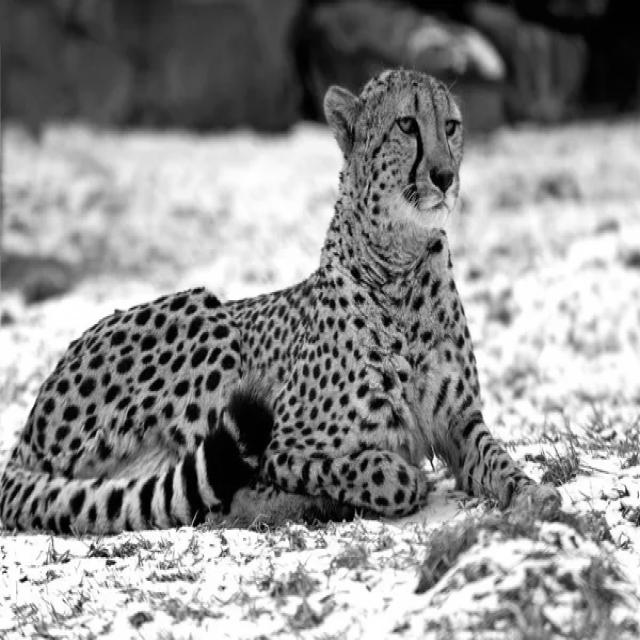Animal: (0, 70, 560, 534)
